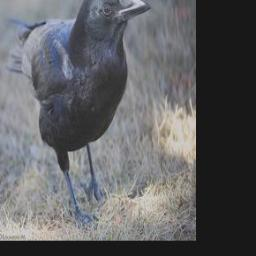Crow: (4, 0, 150, 226)
